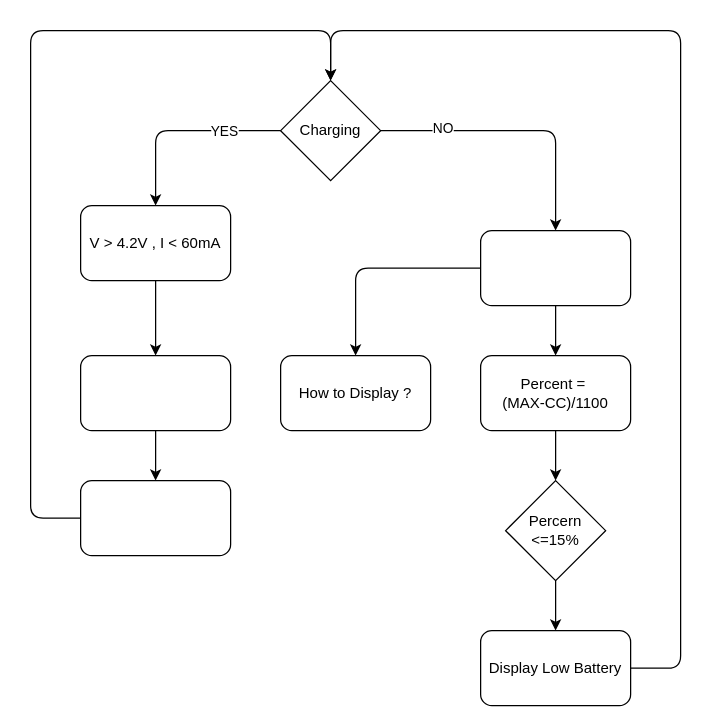
The diagram is 713 pixels wide and 728 high, and some of its shapes have lost their labels. The centre of each missing label's shape, as x and y in pixels:
"CC < Max && CC > MAX-1100" goes at point 555,267.
"Display Charge Done or Display Charging" goes at point 155,517.
"set CC = Max" goes at point 155,392.
